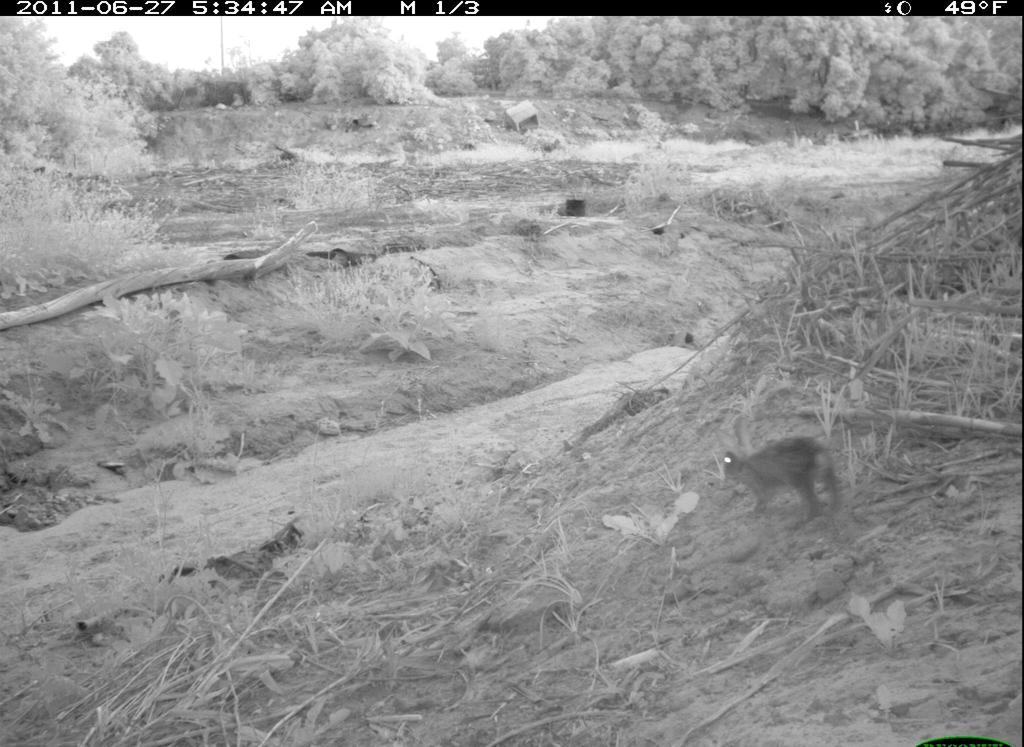rabbit: (711, 413, 852, 530)
